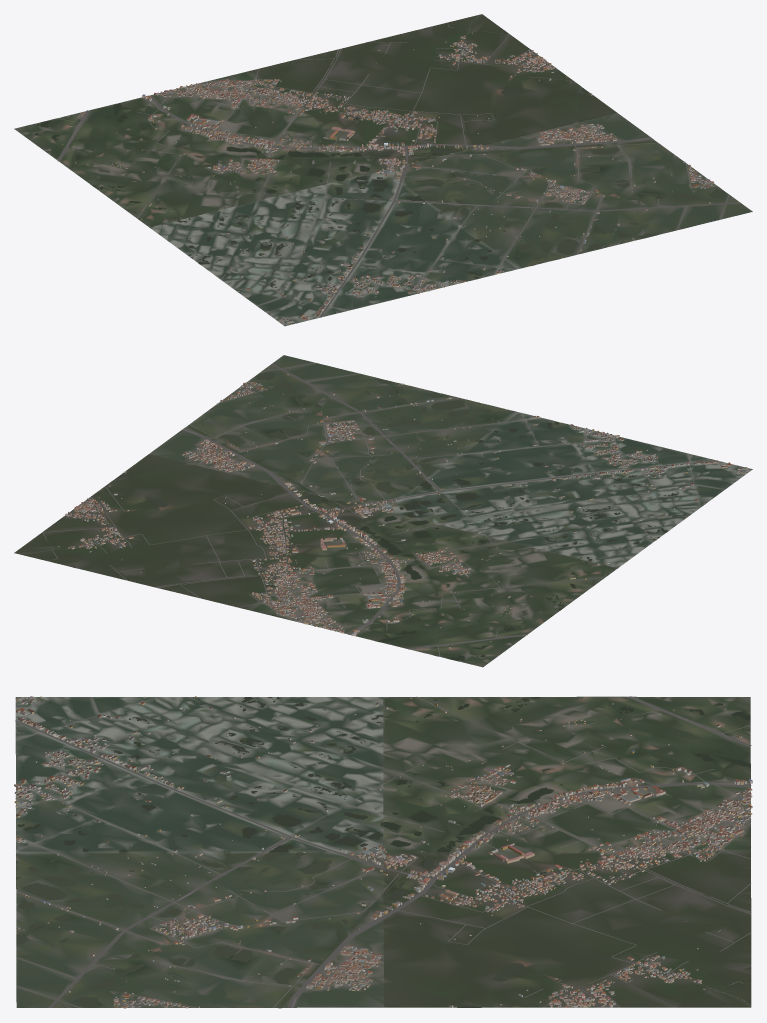
3 views of the same model, one above another, from view 1: azimuth 30°, elevation 25°; view 2: azimuth 150°, elevation 25°; view 3: azimuth 270°, elevation 25° (orthographic). The views are drawn at different scales.
Parts seen in each view (by area): view 1: ground, buildings, roads, water; view 2: ground, buildings, roads, water; view 3: ground, buildings, roads, water.
Part boxes in pixels (x1,y1,x2,y2): ground: (14, 14, 752, 326); buildings: (62, 32, 715, 324); roads: (57, 19, 740, 325); water: (35, 28, 725, 313); ground: (14, 355, 752, 667); buildings: (57, 374, 748, 649); roads: (22, 363, 749, 656); water: (74, 372, 678, 660); ground: (15, 696, 751, 1008); buildings: (14, 696, 752, 1008); roads: (15, 696, 751, 1007); water: (16, 697, 750, 1007).
Bounding box in the file's own units: 2818 × 23.74 × 2819.
